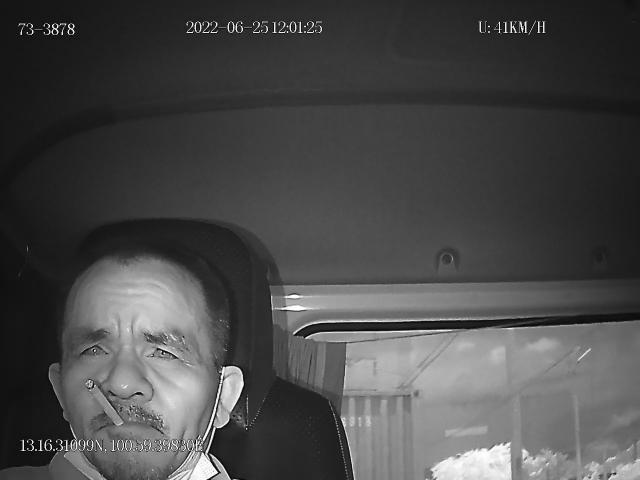SafeDriving: (143, 332, 190, 369), (73, 331, 117, 366)
Smoking: (85, 380, 123, 428)
